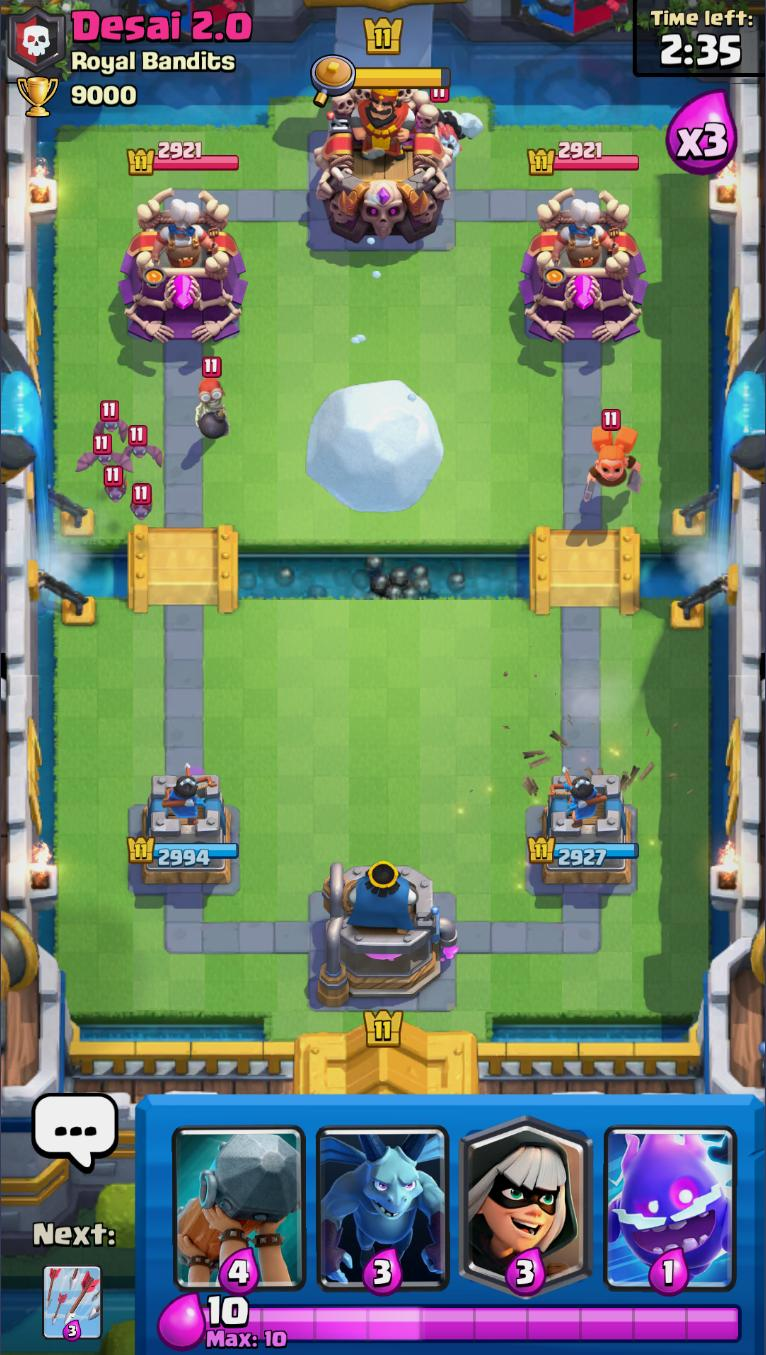ArrowNext: (42, 1263, 104, 1343)
BanditDeck: (450, 1097, 599, 1295)
Bat: (74, 434, 133, 478), (123, 424, 166, 466), (91, 403, 129, 439), (127, 480, 156, 523), (99, 465, 132, 502)
BattleRamDeck: (173, 1098, 310, 1290)
Berserker: (583, 411, 642, 502)
Bomber: (192, 357, 230, 445)
Chef: (149, 199, 217, 273), (553, 197, 617, 274)
ElectroSpiritDeck: (599, 1097, 744, 1294)
Elixir: (202, 1296, 742, 1349)
EnemyTower: (118, 187, 248, 346), (520, 188, 648, 345)
GiantSnowball: (305, 379, 447, 515)
IceGolem: (424, 84, 484, 158)
KingTower: (309, 78, 456, 245)
MinionsDeck: (312, 1097, 453, 1296)
MyKingTower: (316, 858, 458, 1009)
MyPrincessTower: (128, 770, 241, 894), (528, 775, 640, 894)
MyPrincessTowerHP: (126, 835, 240, 869), (527, 835, 641, 869)
TowerPrincessHP: (526, 139, 641, 178), (125, 140, 240, 176)
